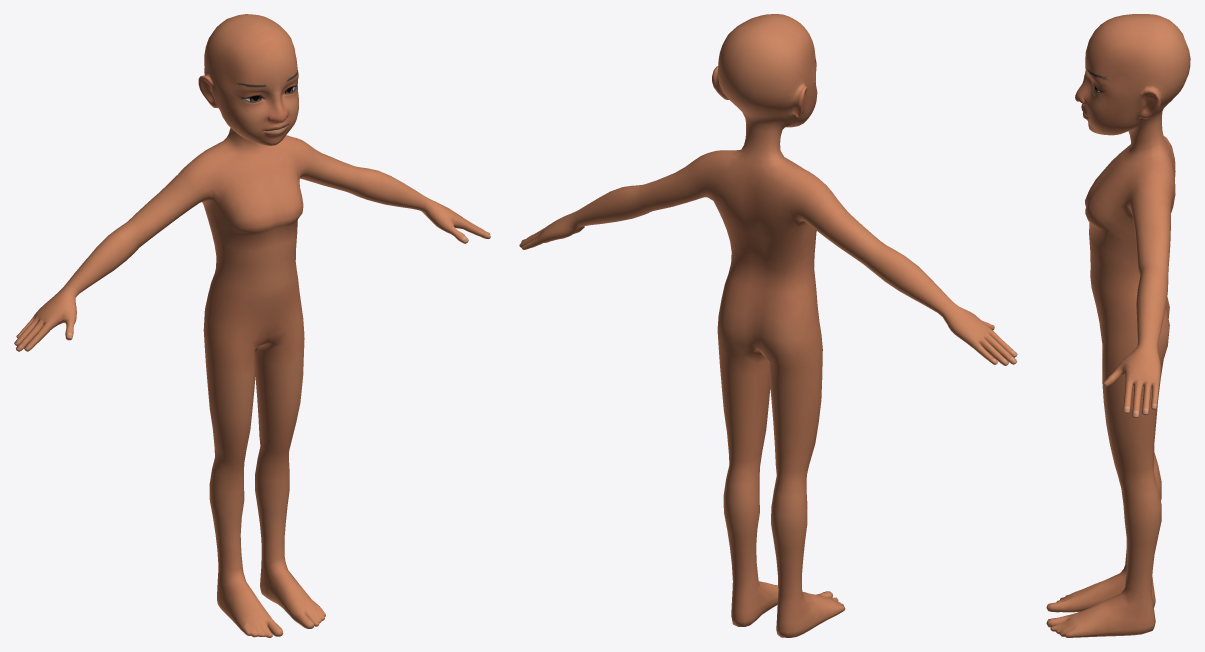
The model's file is frame_0042.glb.
3 views of the same model, side by side, from view 1: azimuth 30°, elevation 25°; view 2: azimuth 150°, elevation 25°; view 3: azimuth 270°, elevation 25° (orthographic). The views are drawn at different scales.
Visible parts, largest first — view 1: frame_0042_head_geo; view 2: frame_0042_head_geo; view 3: frame_0042_head_geo.
Part boxes in pixels (x1=…): frame_0042_head_geo: x1=14, y1=14, x2=490, y2=637; frame_0042_head_geo: x1=519, y1=14, x2=1017, y2=637; frame_0042_head_geo: x1=1046, y1=14, x2=1190, y2=637.
Bounding box in the file's own units: 1.28 × 1.5 × 0.3253.
Materials: 3 (3 with a texture image).
